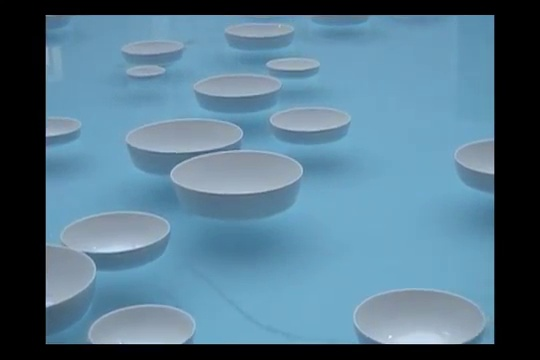bowl: (170, 149, 304, 219), (353, 288, 487, 344), (125, 118, 245, 176), (59, 211, 172, 269), (45, 243, 97, 329), (87, 304, 196, 343), (193, 73, 282, 111), (269, 107, 352, 145), (454, 138, 494, 193), (224, 22, 295, 49), (120, 40, 186, 66), (265, 57, 321, 79), (46, 116, 82, 144), (126, 65, 168, 80)
